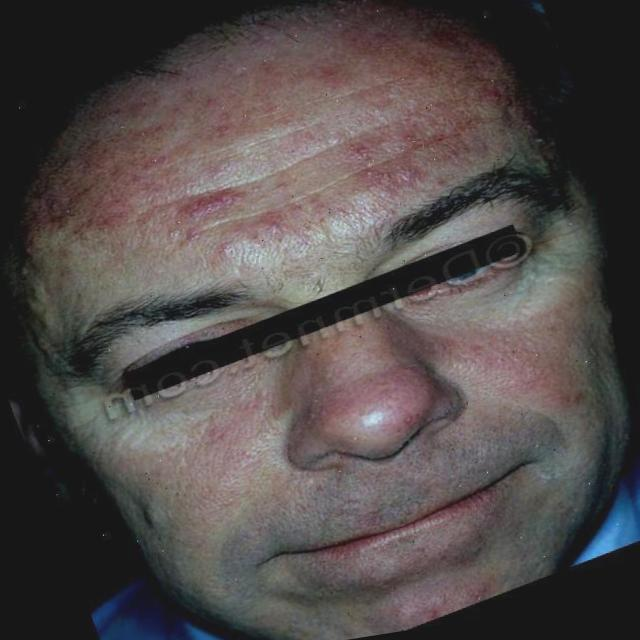skinredness: (0, 0, 610, 364)
